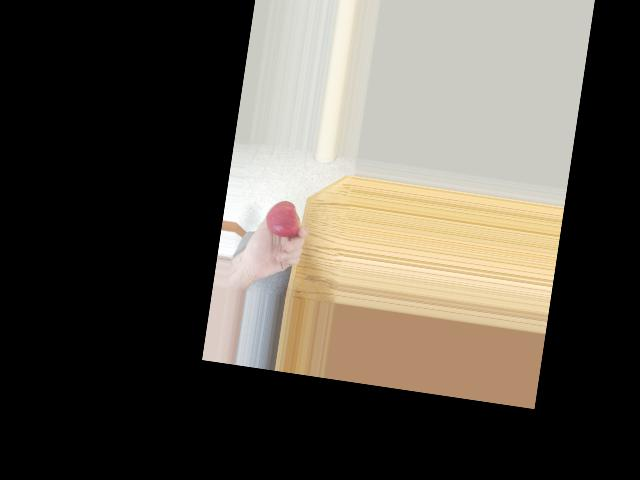apple: (262, 196, 305, 241)
